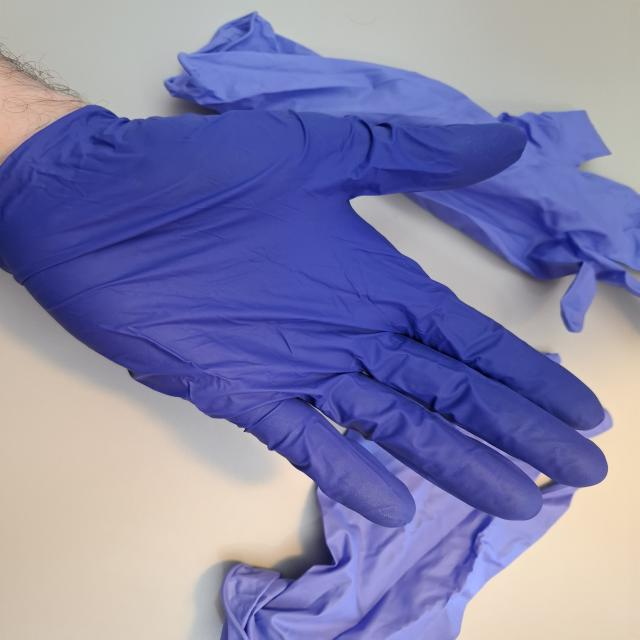glove_on: (0, 99, 611, 532)
